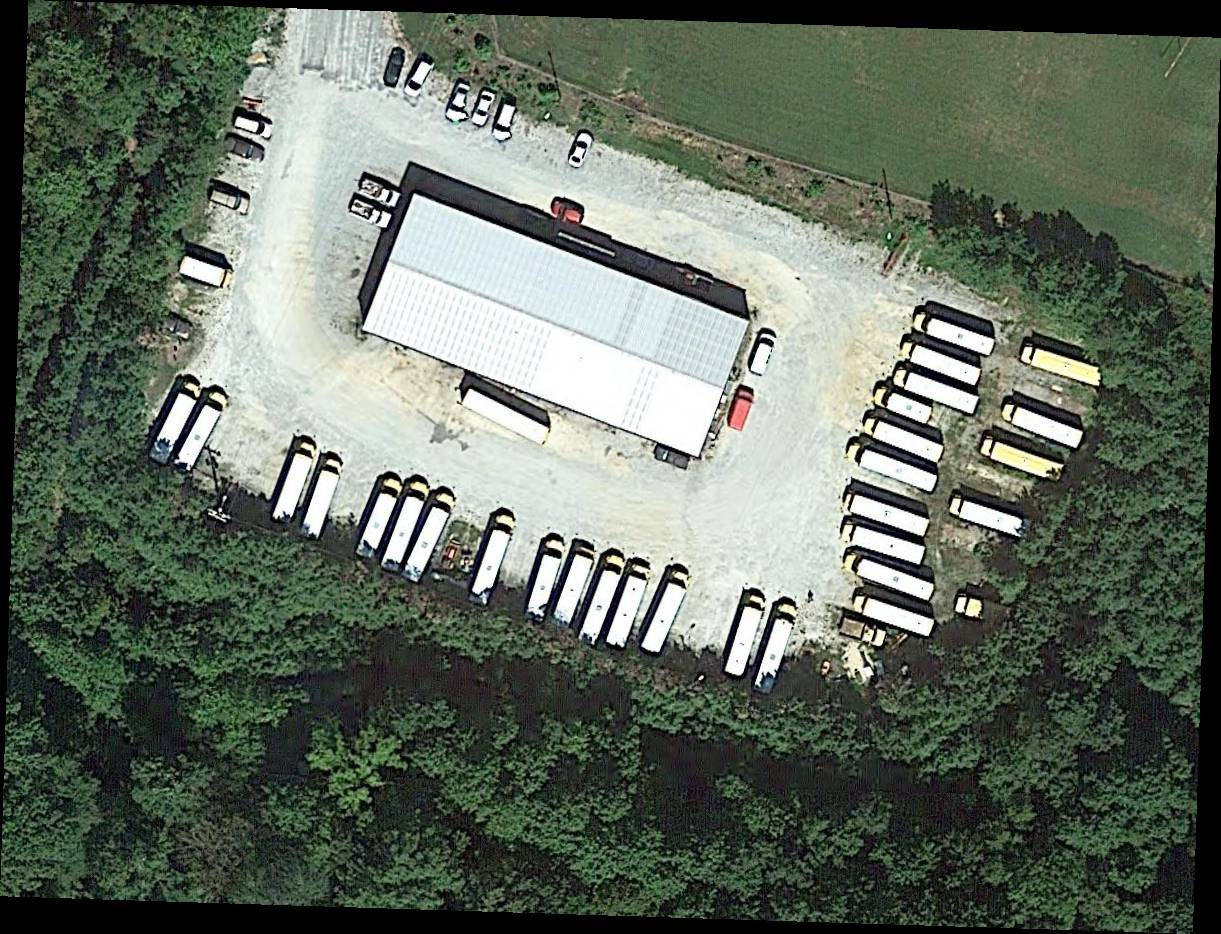large vehicle: (400, 492, 458, 585), (466, 510, 518, 608), (575, 549, 627, 646), (172, 390, 230, 476), (146, 379, 202, 467), (639, 564, 693, 654), (380, 480, 431, 575), (845, 442, 940, 493), (842, 552, 937, 602), (604, 560, 654, 652), (751, 602, 799, 697), (550, 539, 599, 631), (268, 438, 319, 526), (893, 365, 980, 416), (858, 414, 946, 464), (355, 476, 405, 560), (899, 339, 983, 389), (978, 434, 1065, 482), (999, 400, 1086, 448), (912, 310, 997, 358), (947, 494, 1033, 541), (522, 535, 566, 626), (844, 493, 931, 539), (298, 456, 345, 541), (839, 523, 926, 566), (723, 594, 766, 680), (852, 593, 936, 637), (1019, 343, 1104, 386), (954, 594, 1030, 631)
small vehicle: (872, 387, 934, 426), (178, 255, 234, 290), (745, 333, 780, 377), (837, 615, 886, 646), (348, 199, 394, 231), (726, 386, 757, 433), (221, 135, 266, 163), (360, 179, 402, 208), (404, 61, 433, 100), (491, 100, 520, 139), (566, 129, 595, 168), (654, 442, 691, 472), (445, 83, 472, 123), (210, 187, 249, 214), (233, 114, 275, 138), (471, 90, 498, 127), (551, 198, 586, 225), (384, 47, 407, 87)
